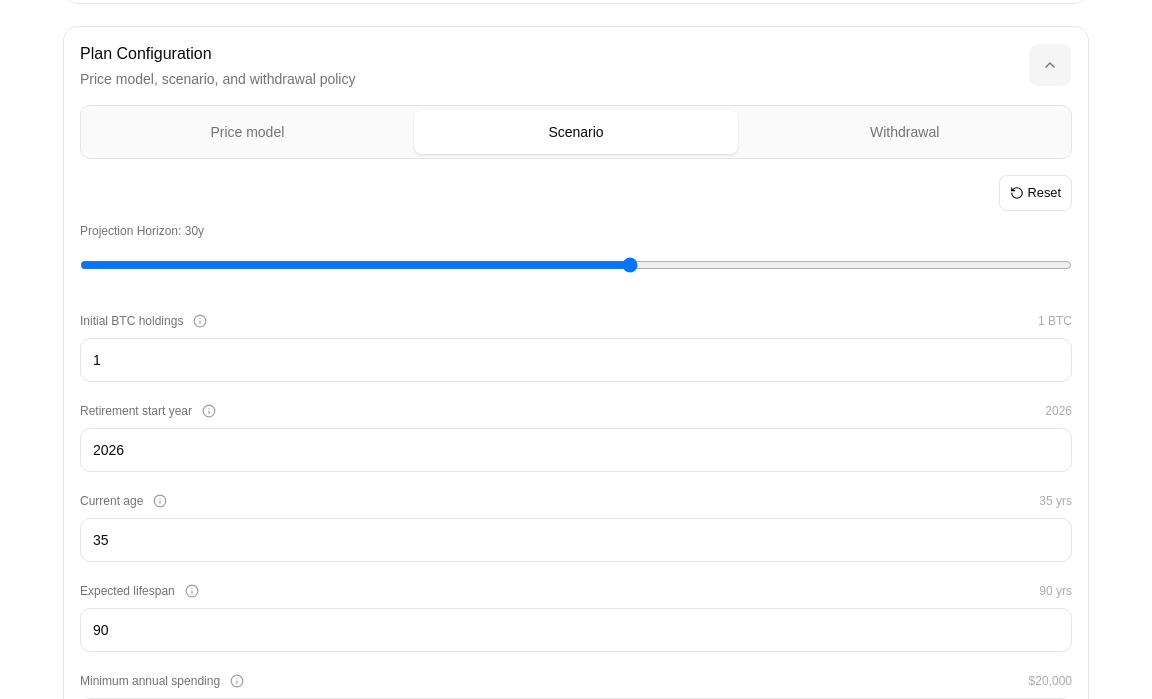
Test case: App › resets the Scenario tab to default parameters and horizon
The width and height of the screenshot is (1152, 699).
(page scrolled)
Replace the text in the number field named "Initial BTC holdings value" with "3". click: (576, 360)
box: [80, 338, 1072, 382]
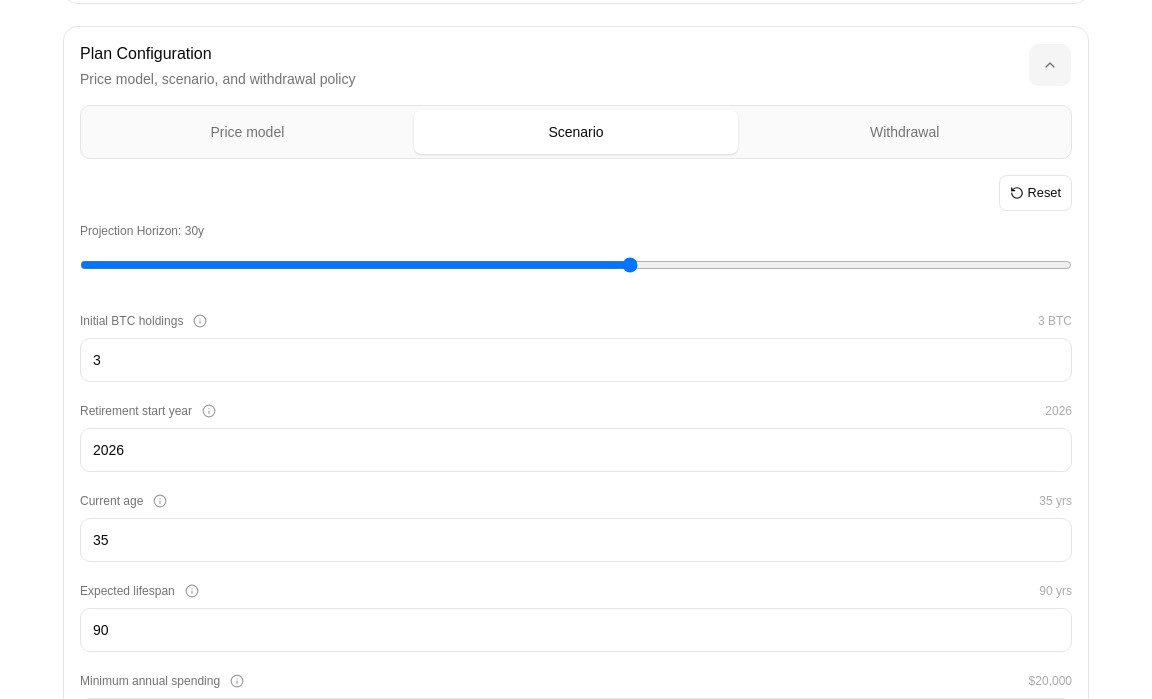
Set the slider to "40". click: (847, 265)
box: [80, 243, 1072, 287]
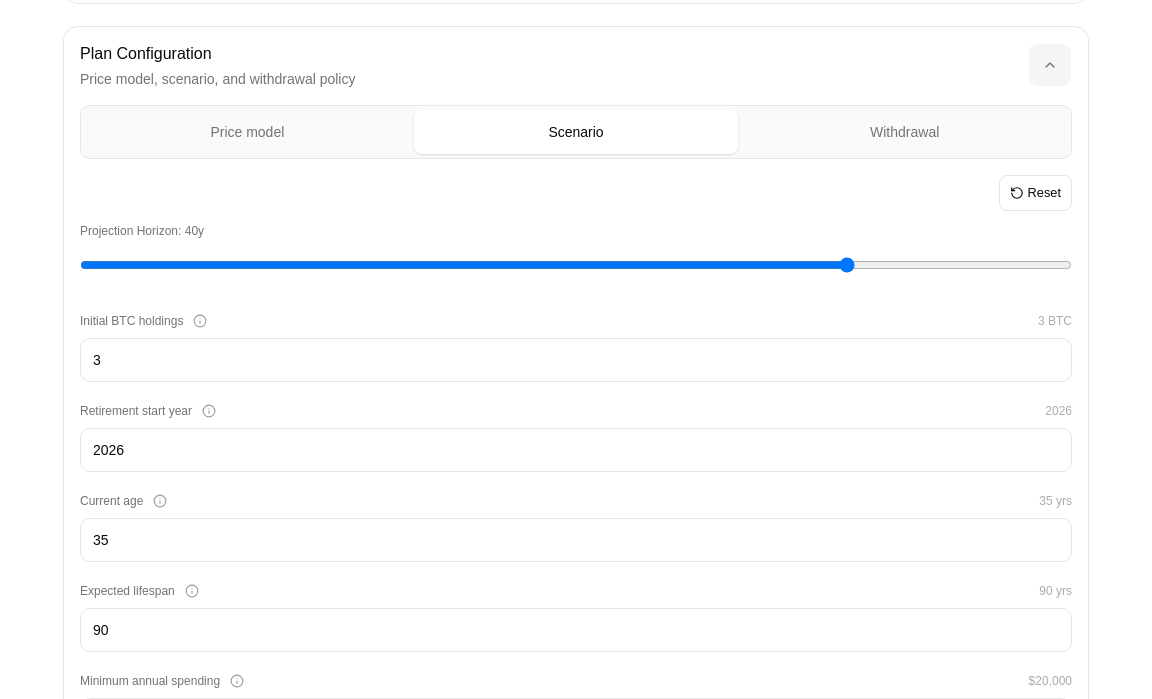
Now the text "Projection Horizon: 40y" is shown, box [80, 224, 204, 238]
Click the button with aria-label "Reset scenario tab". click: (1035, 193)
box: [999, 175, 1072, 211]
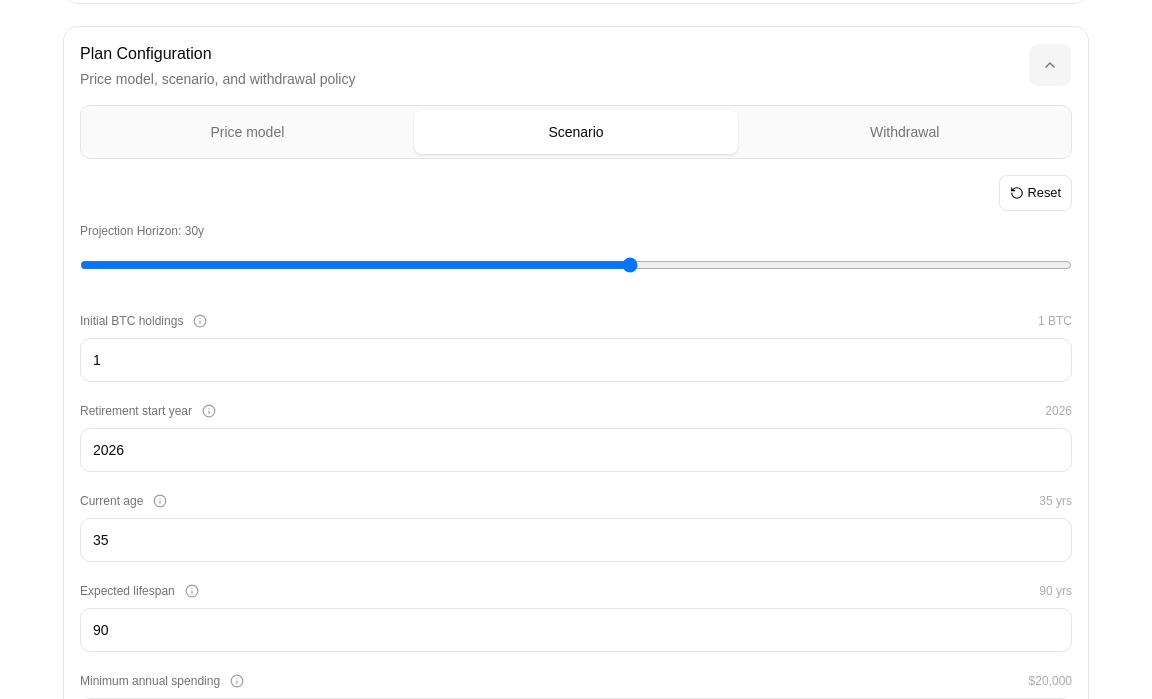
Now the text "Projection Horizon: 30y" is shown, box [80, 224, 204, 238]
Now the number field named "Initial BTC holdings value" holds "1", box [80, 338, 1072, 382]
